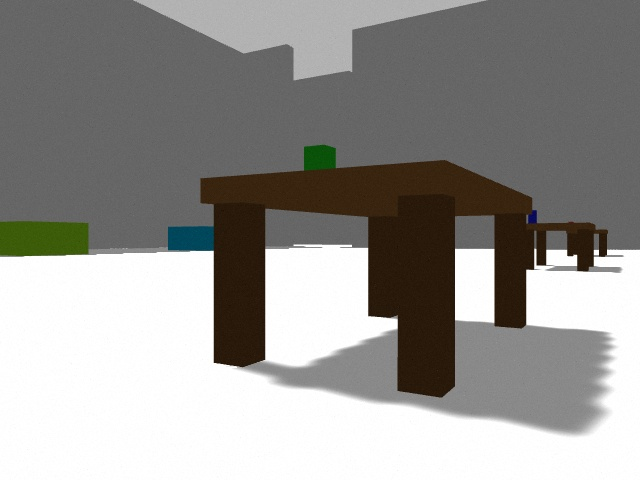blue_cube: (528, 210, 537, 223)
blue_drop_zone: (168, 226, 213, 251)
green_cube: (304, 145, 336, 170)
green_drop_zone: (0, 221, 89, 256)
